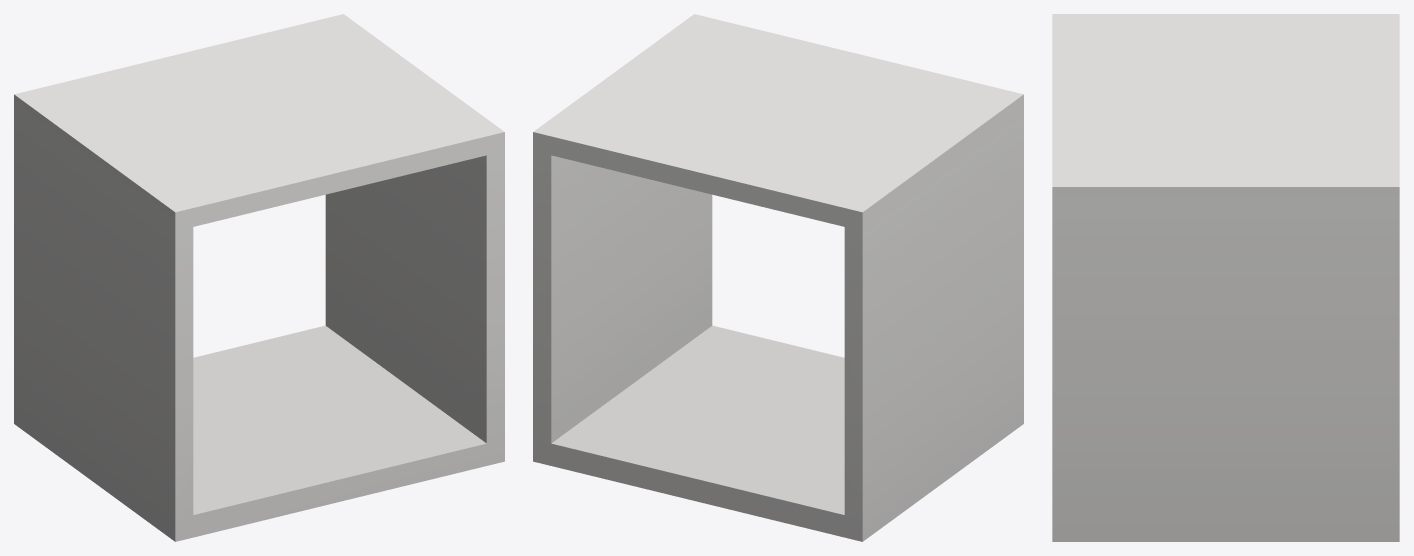
File: Shelving_Hollow_Single_White.fbx
3 renders of one model, left to right at view 1: azimuth 30°, elevation 25°; view 2: azimuth 150°, elevation 25°; view 3: azimuth 270°, elevation 25°, orthographic. The views are drawn at different scales.
Parts seen in each view (by area): view 1: Shelving_Hollow_Single_White; view 2: Shelving_Hollow_Single_White; view 3: Shelving_Hollow_Single_White.
Boxes of the visible parts, <box> form: Shelving_Hollow_Single_White: <box>14,14,504,541</box>; Shelving_Hollow_Single_White: <box>533,14,1023,541</box>; Shelving_Hollow_Single_White: <box>1052,14,1399,541</box>.
Bounding box in the file's own units: 41.8 × 39.95 × 35.42.
